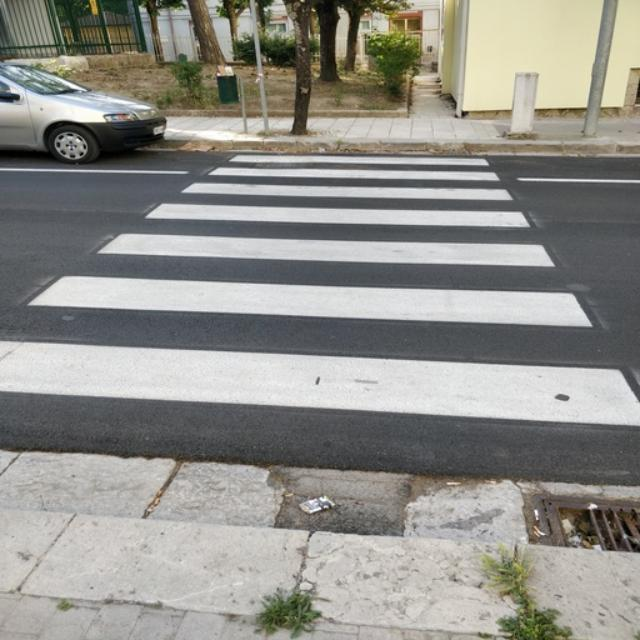sidewalk: (1, 155, 640, 424)
